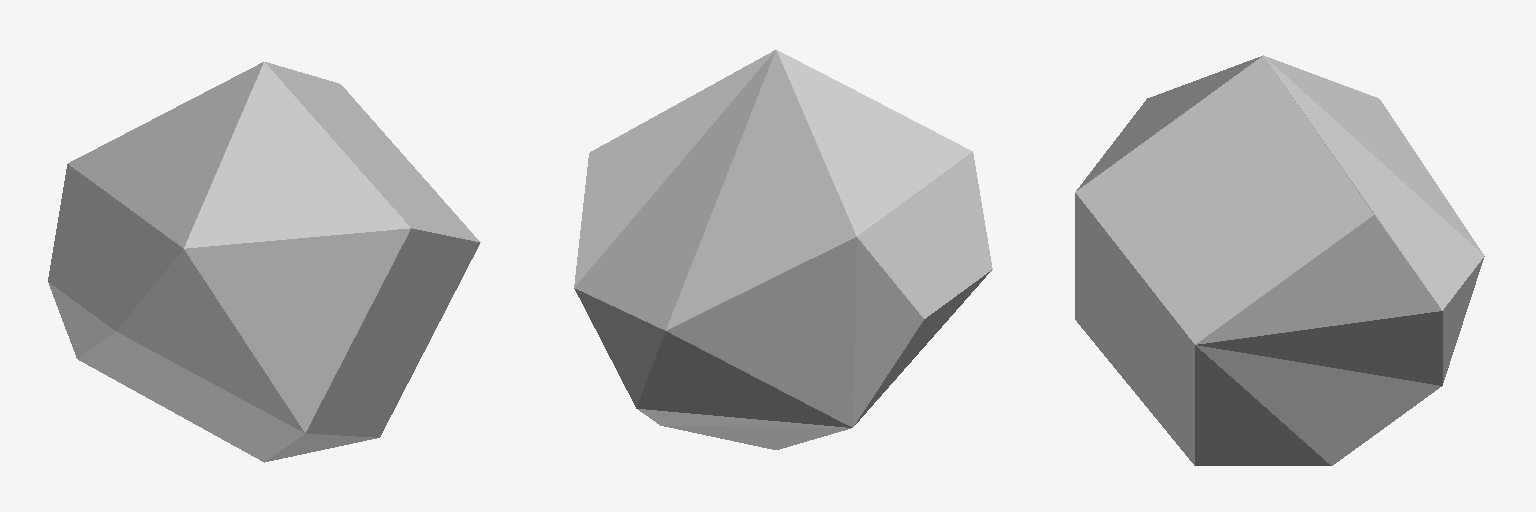
Rendered from smallasteroid.obj.
3 renders of one model, left to right at view 1: azimuth 30°, elevation 25°; view 2: azimuth 150°, elevation 25°; view 3: azimuth 270°, elevation 25°, orthographic.
Parts seen in each view (by area): view 1: Icosphere; view 2: Icosphere; view 3: Icosphere.
Boxes of the visible parts, <box> form: Icosphere: <box>48,62,480,462</box>; Icosphere: <box>574,50,992,449</box>; Icosphere: <box>1075,55,1484,465</box>.
Size of the model in its own units: 1.83 by 1.92 by 1.78.